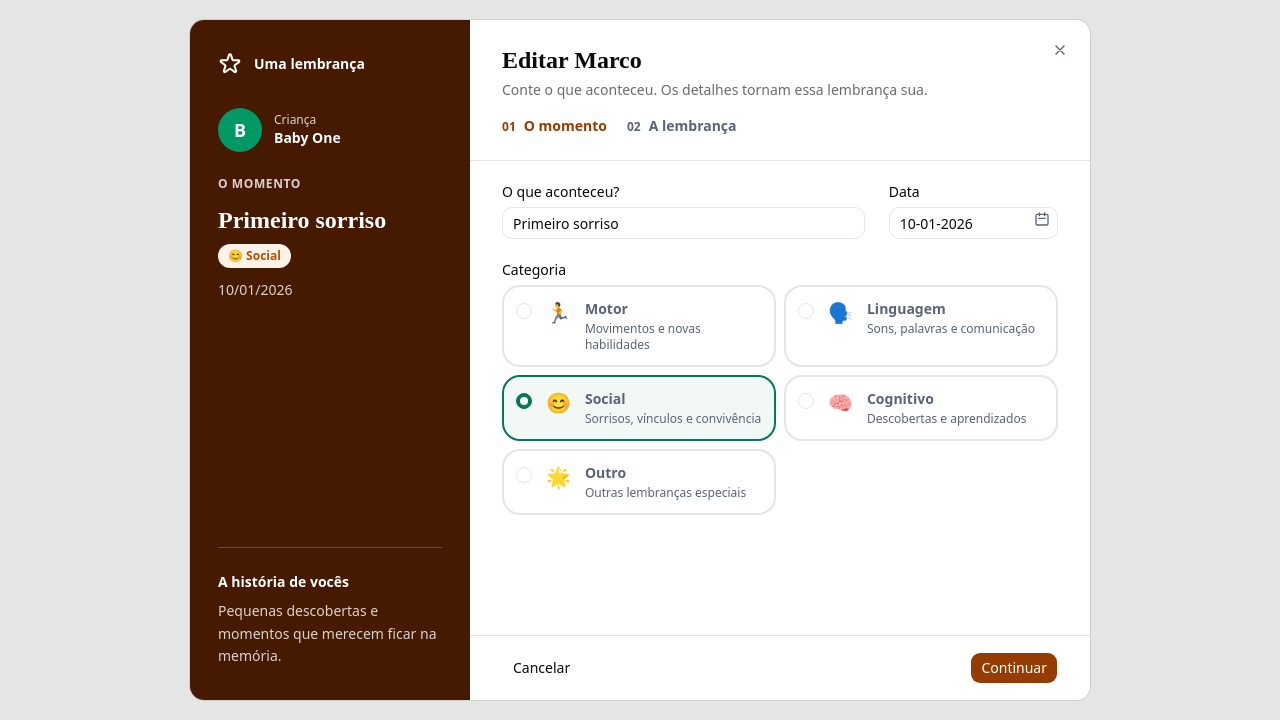
Test case: EditMilestoneDialog › shows an inline error when the update request fails, instead of failing silently
The image size is (1280, 720).
Click the button "Continuar" at (1014, 668), box 970,652 -> 1058,684
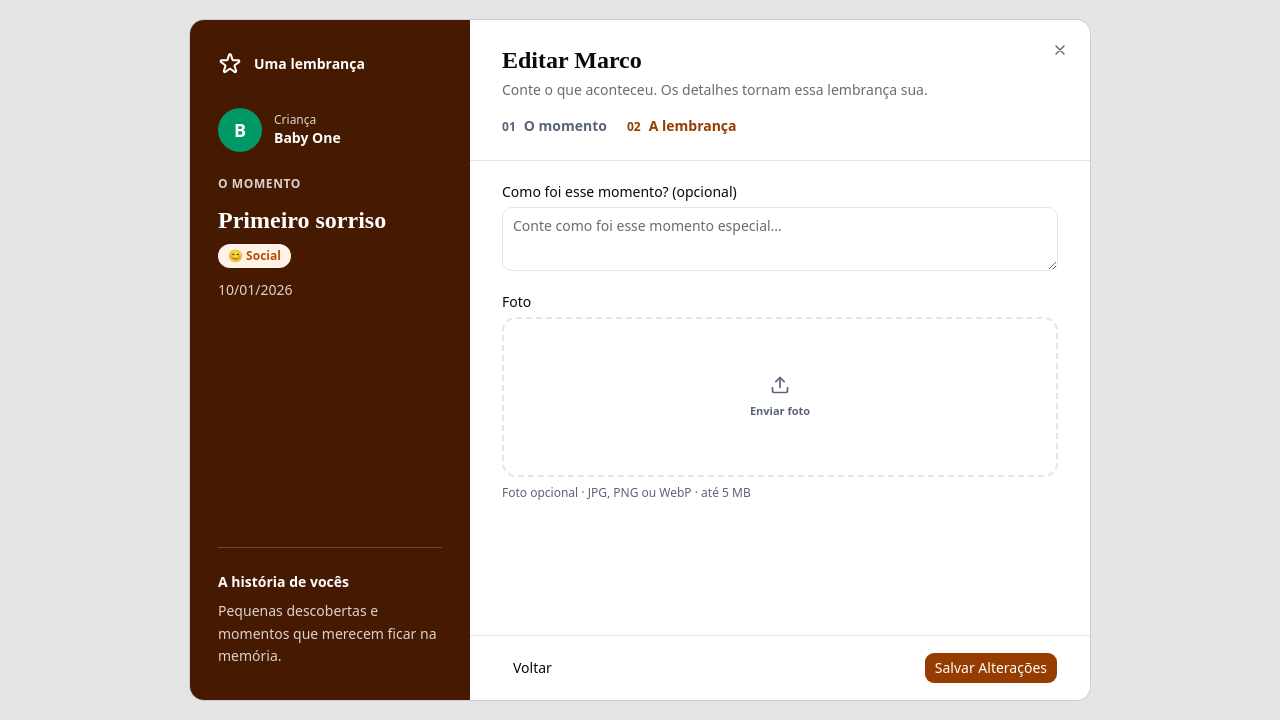
Click the button "Salvar Alterações" at (991, 668), box 924,652 -> 1058,684
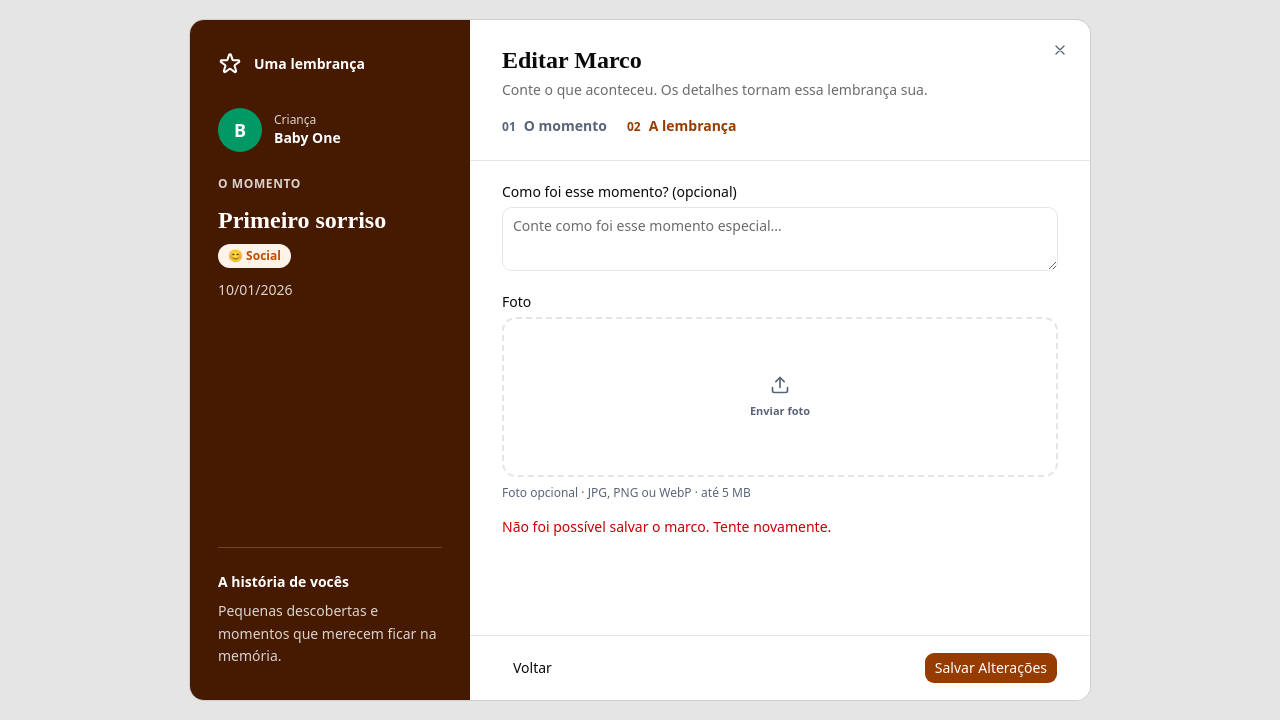
Expected: the message reads "Não foi possível salvar o marco. Tente novamente.", 502,517 -> 831,536
